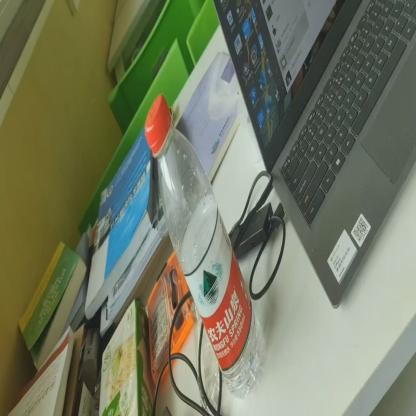Glass Bottle: (144, 91, 262, 404)
